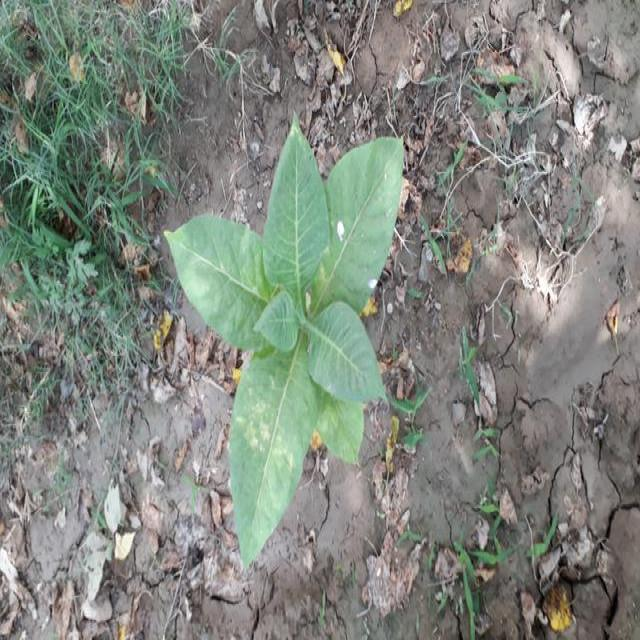crop: (162, 107, 406, 570)
